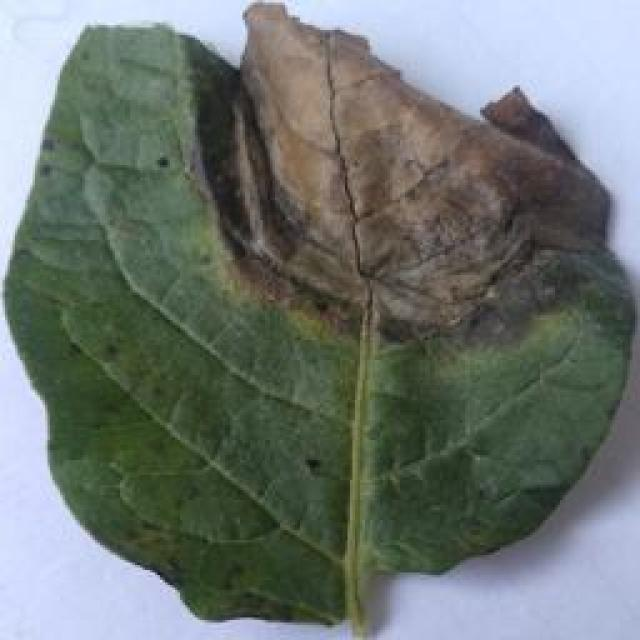Potato_Late_Blight: (0, 5, 625, 625)
